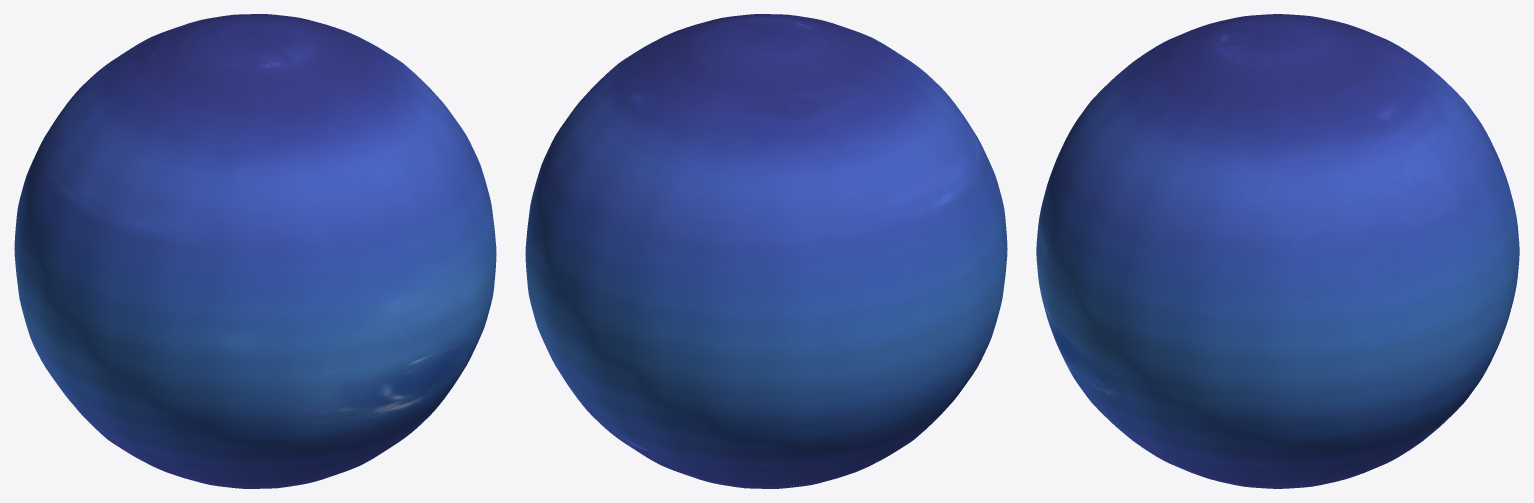
The model's file is Neptune.fbx.
3 views of the same model, side by side, from view 1: azimuth 30°, elevation 25°; view 2: azimuth 150°, elevation 25°; view 3: azimuth 270°, elevation 25° (orthographic).
Parts seen in each view (by area): view 1: Neptune; view 2: Neptune; view 3: Neptune.
Part boxes in pixels (x1,y1,x2,y2): Neptune: [14, 14, 496, 488]; Neptune: [525, 14, 1007, 488]; Neptune: [1036, 14, 1519, 488].
Bounding box in the file's own units: 96.58 × 94.7 × 96.58.
1 material, 1 textured.
